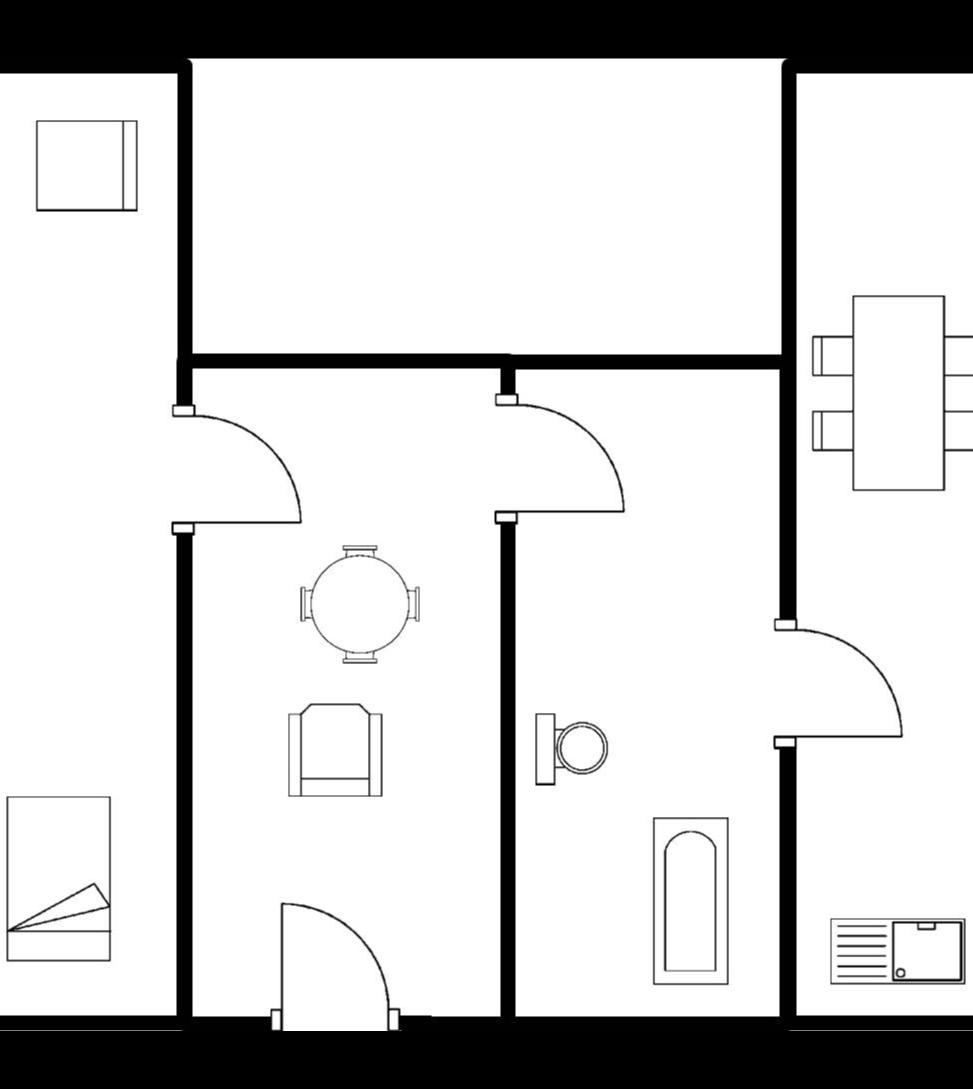bed: (0, 791, 116, 970)
dining_table: (803, 284, 973, 500)
round_table: (290, 535, 425, 670)
sink: (819, 911, 972, 992)
toilet: (525, 709, 615, 792)
tub: (643, 810, 735, 991)
